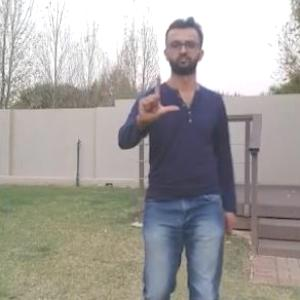land_hand: (133, 69, 181, 125)
